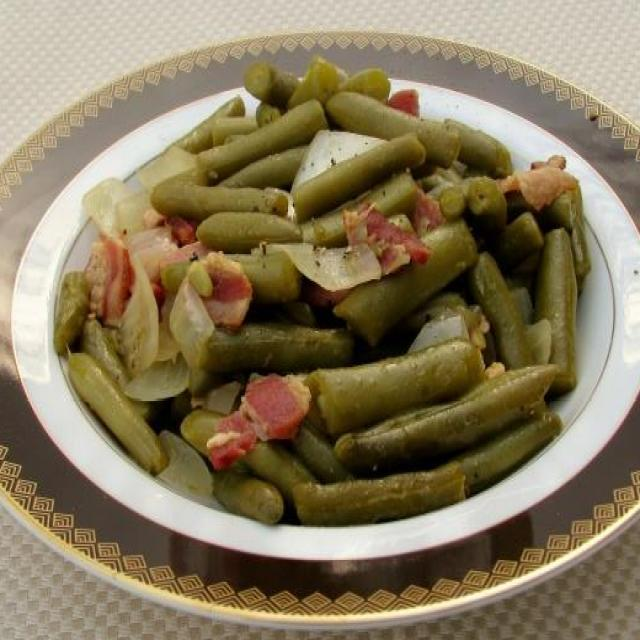Beans: (43, 57, 617, 535)
